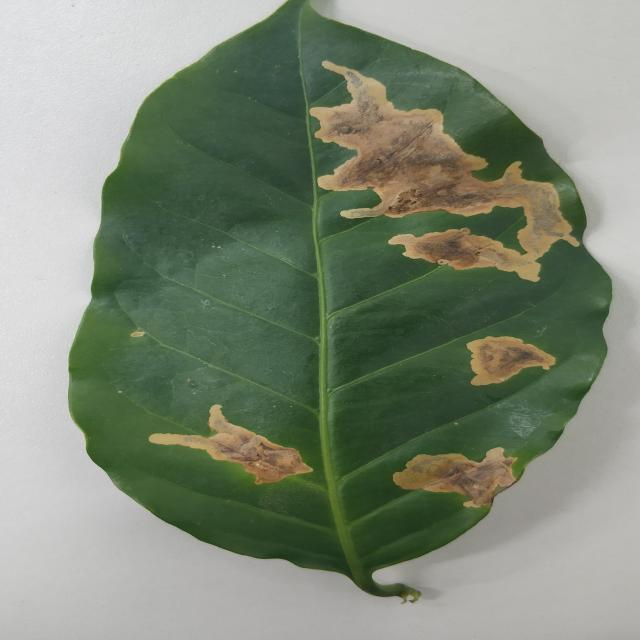Plaga-Minador: (65, 0, 613, 600)
